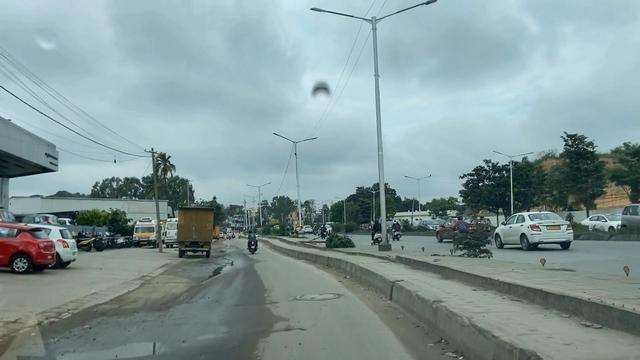RoadDamages: (161, 272, 210, 309), (293, 288, 337, 305)
